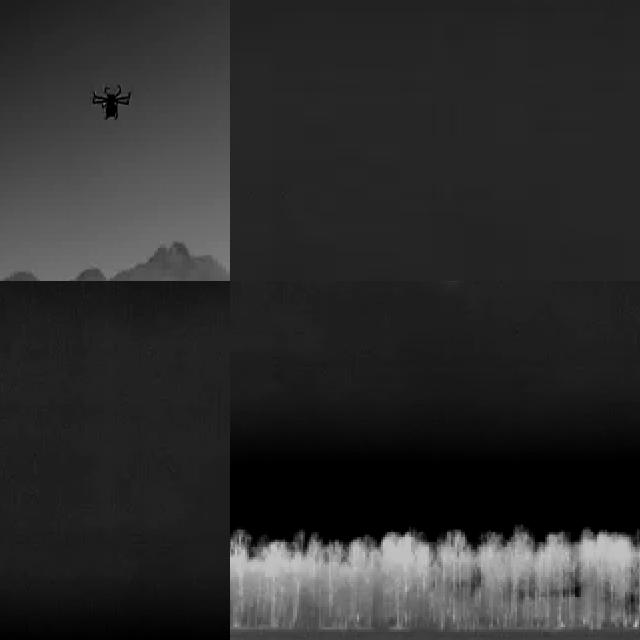1: (438, 281, 474, 292)
drone: (92, 77, 136, 130)
